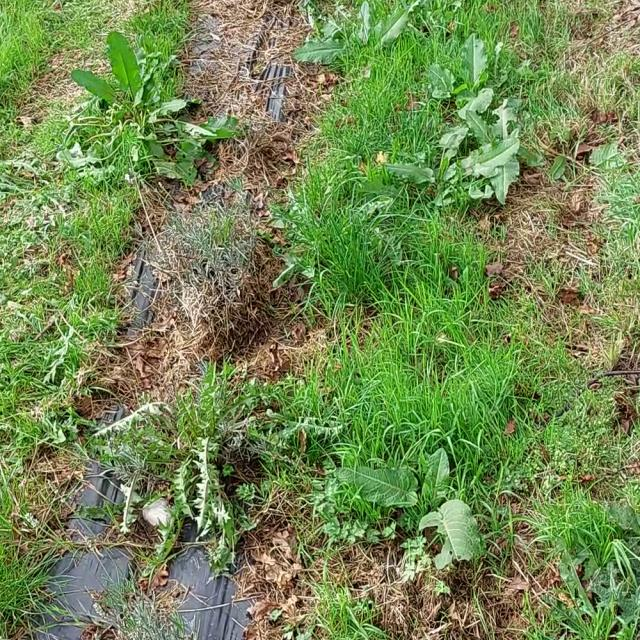organic waste: (45, 21, 240, 183), (327, 414, 488, 582), (400, 112, 565, 228), (277, 0, 421, 107), (403, 40, 521, 128)
